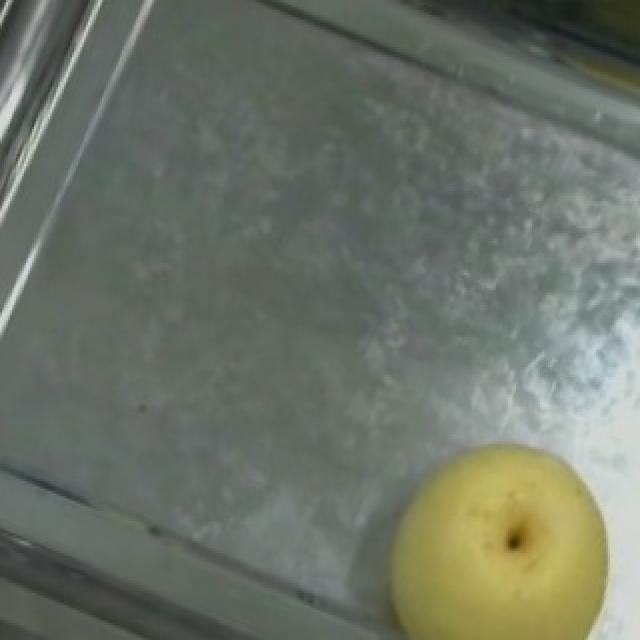Fruit: (340, 397, 640, 640)
